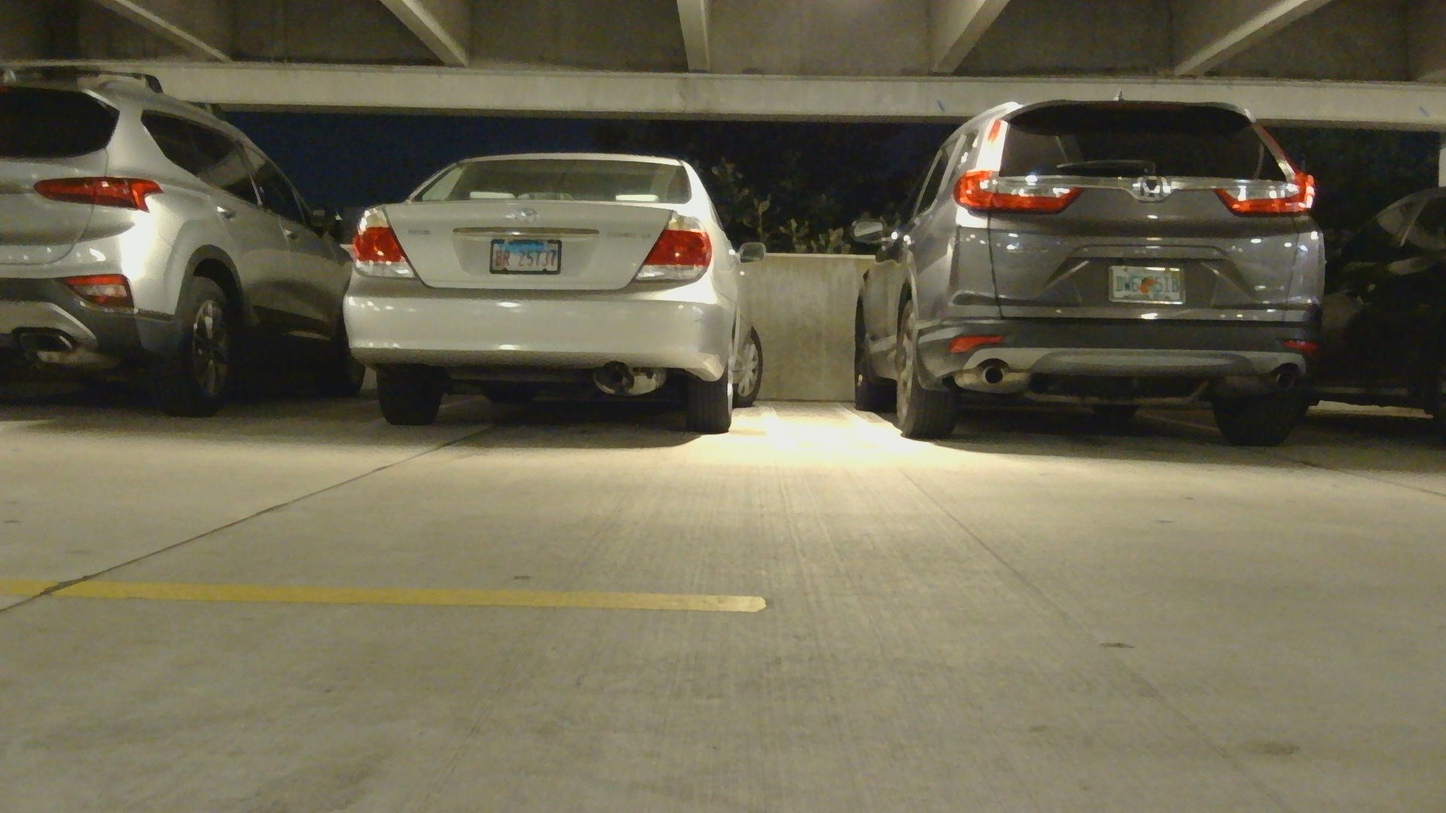occupied_spot: (852, 101, 1328, 447), (2, 69, 368, 437), (351, 154, 771, 446)
